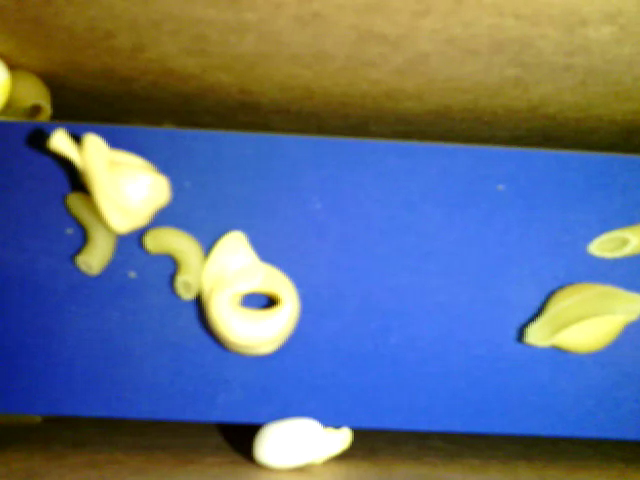elbow: (142, 224, 204, 300), (61, 191, 116, 276)
penne: (581, 222, 639, 264)
shell: (519, 283, 639, 351), (1, 65, 49, 128)
tortellini: (201, 229, 300, 358), (47, 130, 173, 230)
